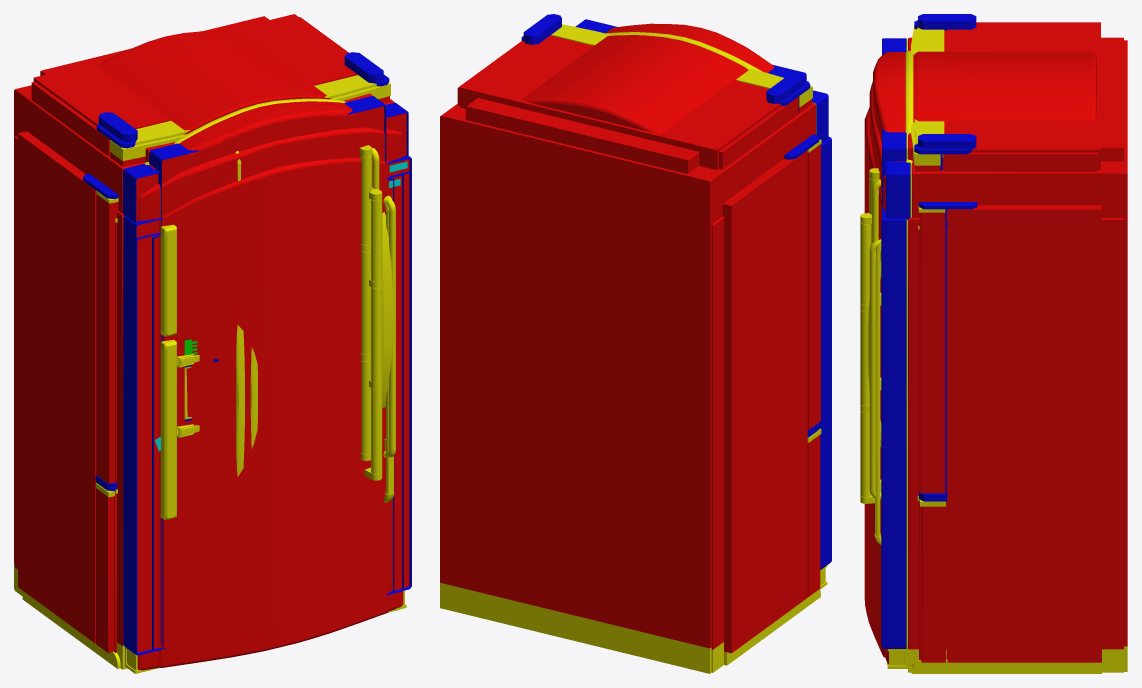
Rendered from fridges_grp.fbx.
The picture shows the model from 3 angles, left to right: view 1: azimuth 30°, elevation 25°; view 2: azimuth 150°, elevation 25°; view 3: azimuth 270°, elevation 25°; orthographic projection.
Visible parts, largest first — view 1: fridge_door_e1, fridge_c6, fridge_e5, fridge_freezerdoor_d4, fridge_door_e6, fridge_c4, fridge_door_e5, fridge_maindoor1_c6, fridge_d4, fridge_freezerdoor_d2, fridge_d6, fridge_maindoor_d1 (+18 smaller); view 2: fridge_d6, fridge_c6, fridge_e5, fridge_c4, fridge_d5, fridge_d4, fridge_freezerdoor_d4, fridge_maindoor1_c6, fridge_door_e5, fridge_freezerdoor_c6, fridge_c2, fridge_d2 (+2 smaller); view 3: fridge_c6, fridge_d4, fridge_e5, fridge_maindoor_d4, fridge_c4, fridge_d6, fridge_maindoor2_c6, fridge_door_e1, fridge_freezerdoor_c6, fridge_c2, fridge_door_e5, fridge_d5 (+11 smaller).
Boxes of the visible parts, x1,y1,x2,y2 form: fridge_door_e1: (159, 158, 389, 667); fridge_c6: (18, 131, 120, 668); fridge_e5: (98, 30, 331, 134); fridge_freezerdoor_d4: (123, 216, 244, 654); fridge_door_e6: (127, 127, 403, 670); fridge_c4: (33, 14, 383, 142); fridge_door_e5: (176, 98, 371, 460); fridge_maindoor1_c6: (96, 191, 118, 483); fridge_d4: (14, 136, 406, 673); fridge_freezerdoor_d2: (125, 233, 162, 655); fridge_d6: (14, 85, 395, 588); fridge_maindoor_d1: (386, 174, 403, 595); fridge_d6: (440, 103, 815, 673); fridge_c6: (722, 134, 820, 665); fridge_e5: (523, 35, 748, 132); fridge_c4: (459, 14, 804, 169); fridge_d5: (465, 98, 699, 173); fridge_d4: (711, 216, 827, 672); fridge_freezerdoor_d4: (819, 137, 831, 569); fridge_maindoor1_c6: (807, 139, 821, 429); fridge_door_e5: (605, 23, 774, 72); fridge_freezerdoor_c6: (807, 428, 821, 596); fridge_c2: (457, 36, 810, 169); fridge_d2: (711, 239, 821, 672); fridge_c6: (911, 202, 1101, 673); fridge_d4: (887, 217, 1123, 672); fridge_e5: (914, 50, 1096, 126); fridge_maindoor_d4: (882, 207, 907, 648); fridge_c4: (918, 14, 1100, 169); fridge_d6: (911, 40, 1127, 671); fridge_maindoor2_c6: (918, 205, 945, 493); fridge_door_e1: (860, 107, 884, 657); fridge_freezerdoor_c6: (919, 500, 945, 662); fridge_c2: (914, 20, 1097, 171); fridge_door_e5: (869, 51, 914, 244); fridge_d5: (908, 37, 1123, 161).
Size of the model in its own units: 133 by 232 by 105.
